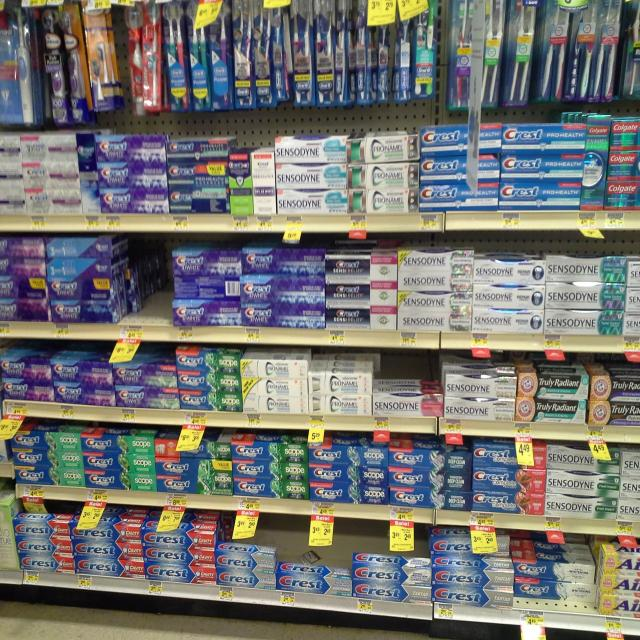void: (115, 236, 143, 341), (145, 237, 169, 340)
